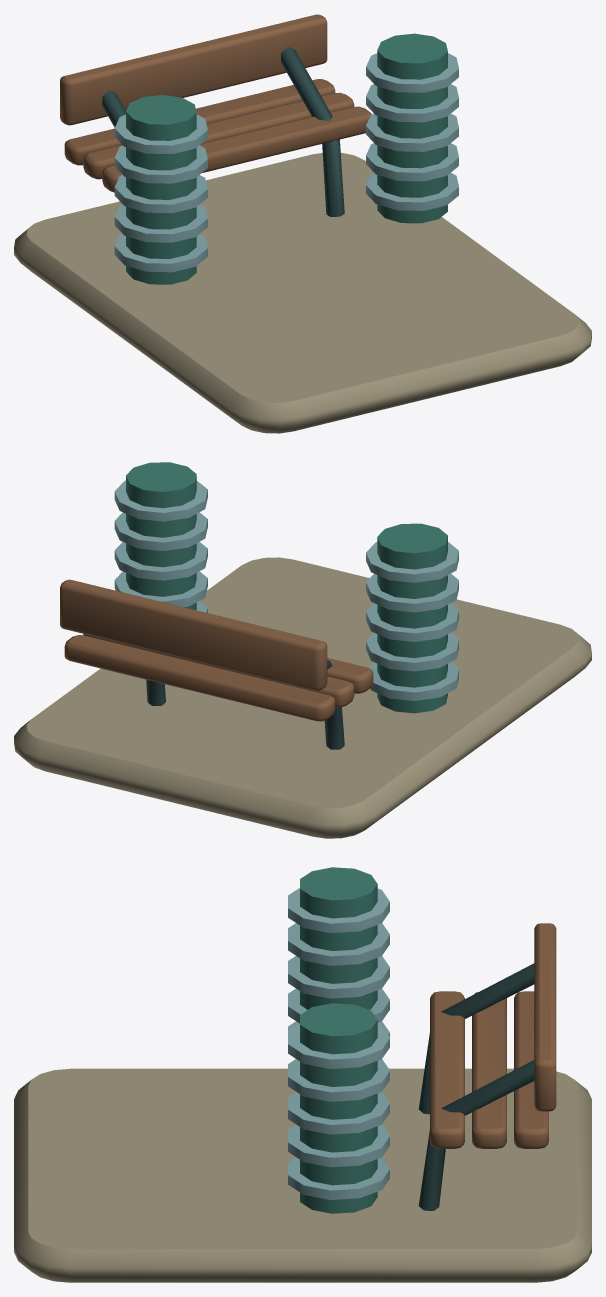
The model's file is tropical_wash_1.glb.
The picture shows the model from 3 angles, top to bottom: view 1: azimuth 30°, elevation 25°; view 2: azimuth 150°, elevation 25°; view 3: azimuth 270°, elevation 25°; orthographic projection. The views are drawn at different scales.
Visible parts, largest first — view 1: TropicalWash1; view 2: TropicalWash1; view 3: TropicalWash1.
Boxes of the visible parts, bbox=[...] form: TropicalWash1: bbox=[14, 14, 591, 433]; TropicalWash1: bbox=[14, 462, 591, 838]; TropicalWash1: bbox=[14, 867, 591, 1282].
Bounding box in the file's own units: 1.95 × 1.14 × 2.48.
